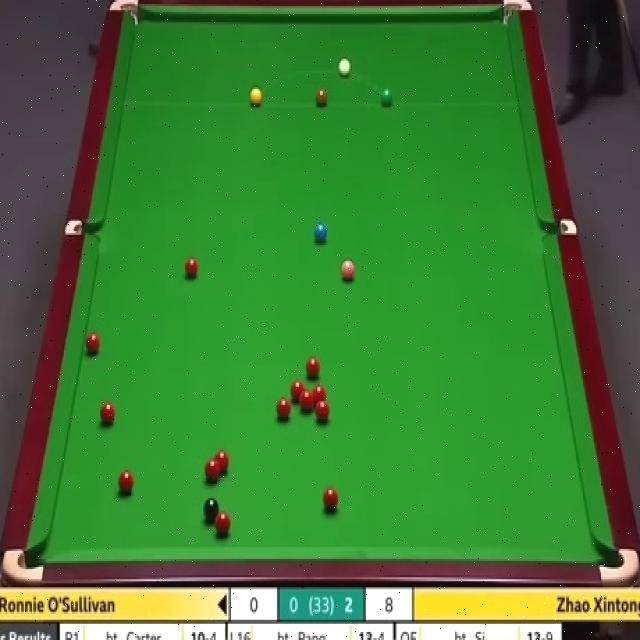black-ball: (202, 495, 221, 526)
blue-ball: (314, 221, 330, 246)
brown-ball: (315, 88, 329, 109)
green-ball: (378, 87, 392, 109)
pink-ball: (339, 255, 358, 283)
red-ball: (214, 512, 233, 540), (202, 458, 222, 484), (99, 400, 116, 427), (304, 355, 322, 380), (84, 330, 101, 356), (118, 469, 134, 495), (298, 390, 315, 413), (184, 255, 200, 279), (276, 397, 292, 421), (322, 488, 338, 512), (215, 449, 231, 471), (315, 399, 330, 422), (289, 380, 306, 400), (312, 385, 328, 403)
white-ball: (337, 55, 352, 81)
yellow-ball: (249, 86, 263, 108)
